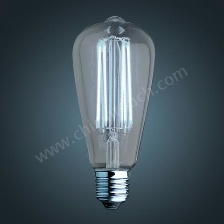light_bulb: (65, 11, 159, 216)
